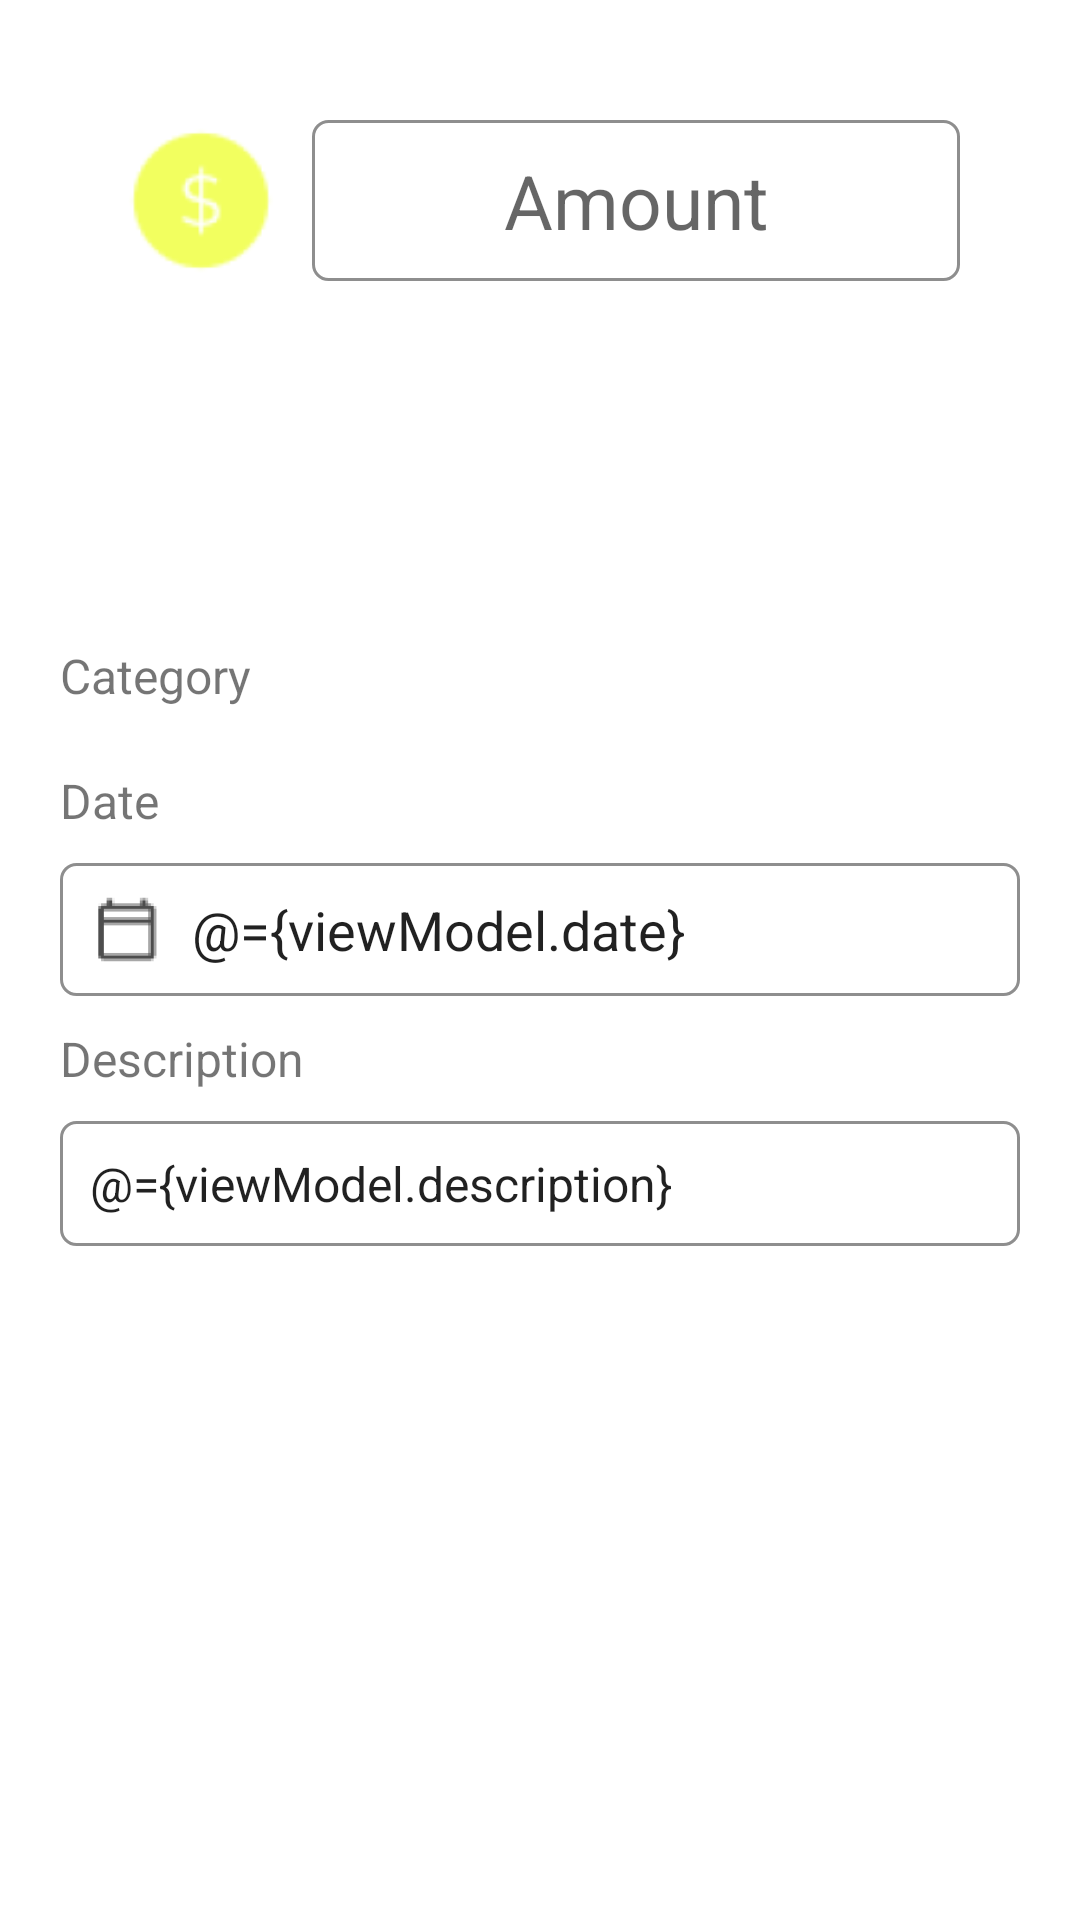

Screen size 1080 x 1920. Icon name, then its center in pixels as point (x, y):
coin: point (201, 200)
